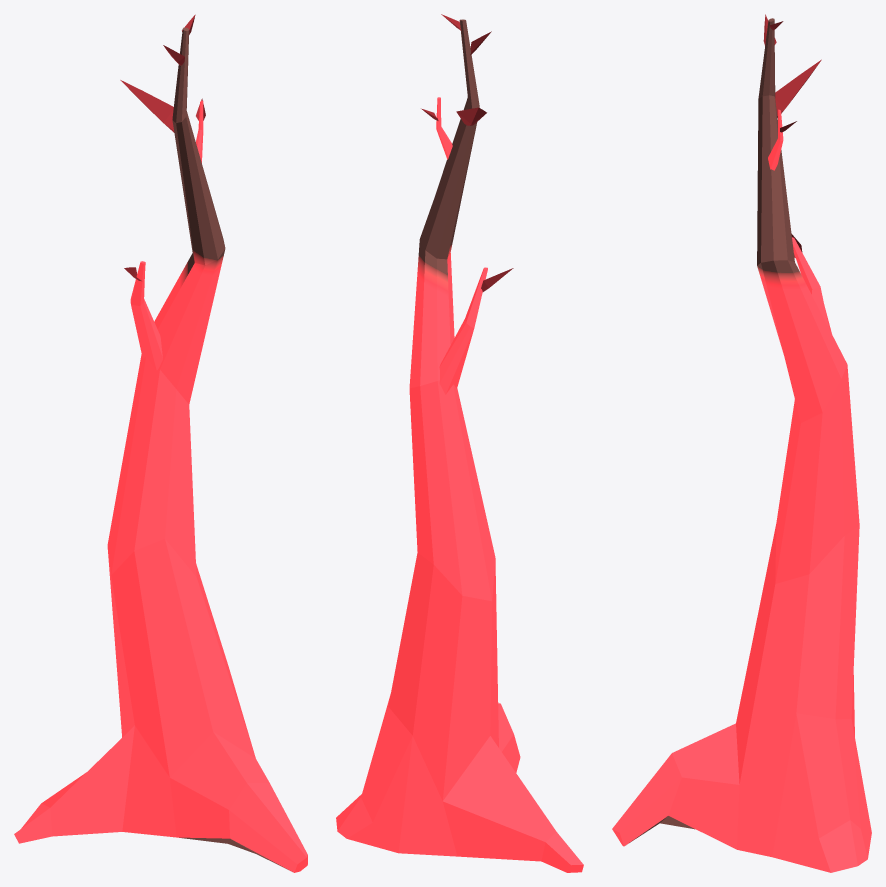
File: SM_Scifi_Tree_Willow_Small.glb
3 renders of one model, left to right at view 1: azimuth 30°, elevation 25°; view 2: azimuth 150°, elevation 25°; view 3: azimuth 270°, elevation 25°, orthographic.
Visible parts, largest first — view 1: scifi-tree-willow-small; view 2: scifi-tree-willow-small; view 3: scifi-tree-willow-small.
Part boxes in pixels (left/top/right/bottom): scifi-tree-willow-small: left=14, top=14, right=307, bottom=872; scifi-tree-willow-small: left=336, top=14, right=583, bottom=872; scifi-tree-willow-small: left=612, top=14, right=871, bottom=872.
Size of the model in its own units: 1.16 by 3.68 by 1.07.
Materials: 1 (1 with a texture image).
